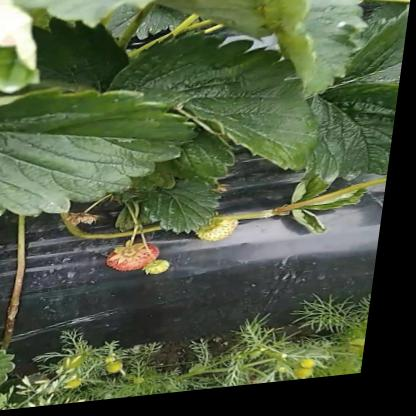ripe: (111, 246, 169, 277)
unripe: (200, 222, 251, 252), (153, 261, 180, 281)
